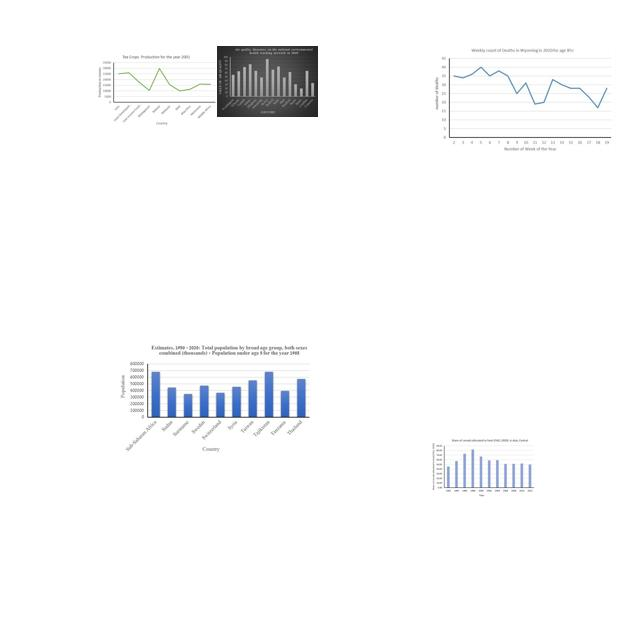Graph: (116, 344, 311, 455), (430, 45, 616, 157), (95, 53, 217, 126), (217, 46, 318, 117), (431, 437, 536, 498)
